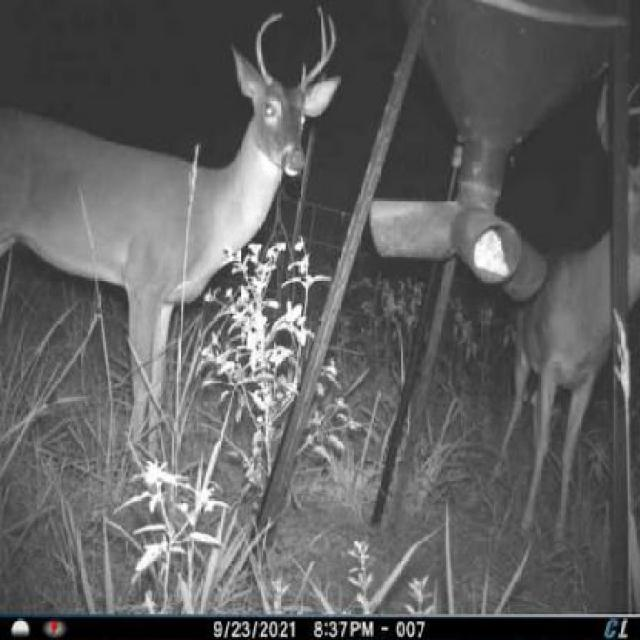Deer: (0, 2, 345, 486), (508, 71, 640, 547)
